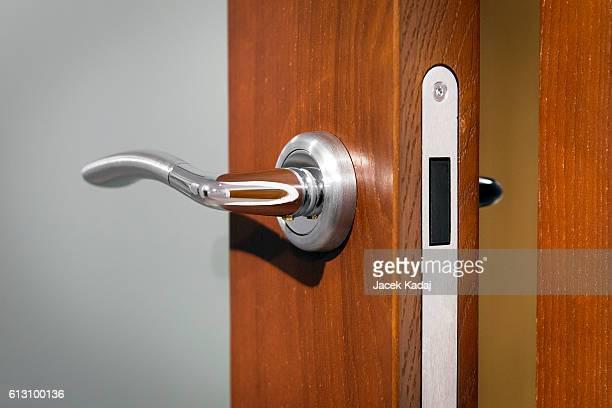doorhandle: (69, 122, 388, 283)
